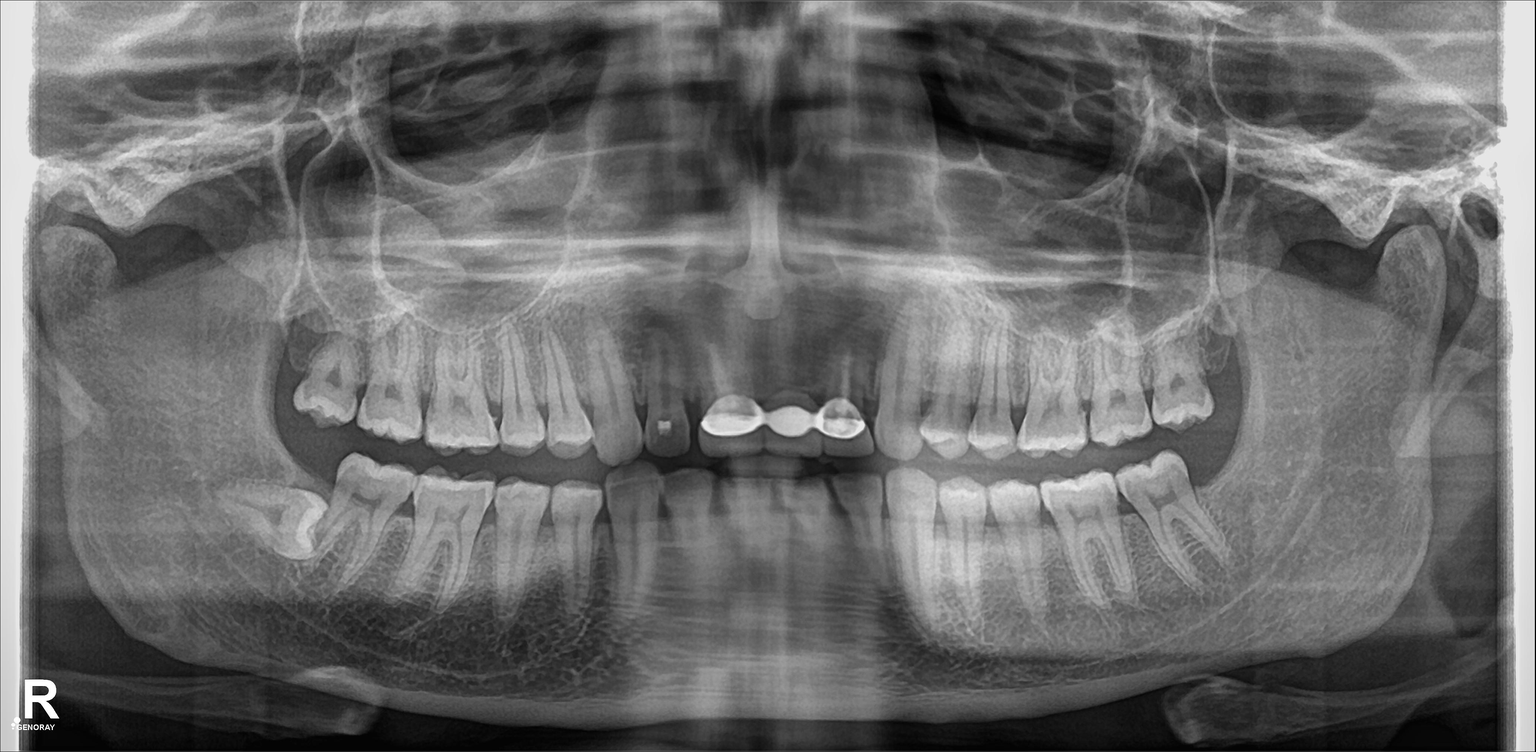Impacted Third Molar: (216, 495, 319, 560)
Missing Tooth: (1197, 441, 1257, 527), (1199, 296, 1247, 402), (276, 423, 337, 500), (276, 303, 316, 404)
